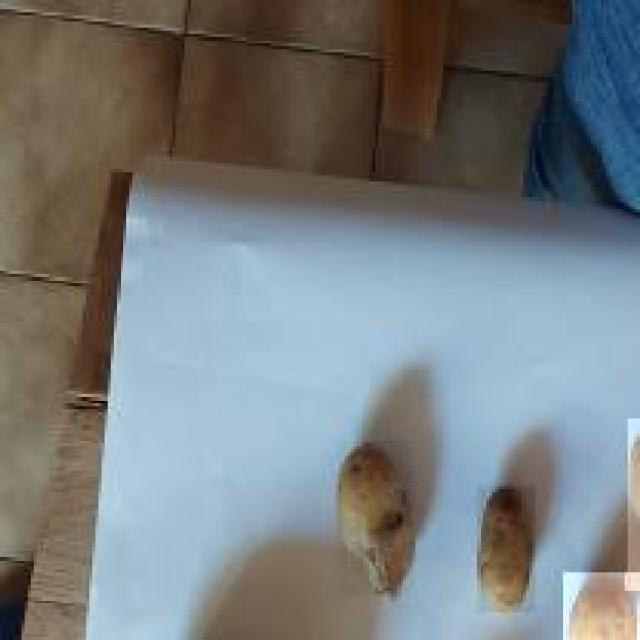potato: (332, 440, 412, 600), (474, 486, 535, 616), (560, 572, 640, 640)
